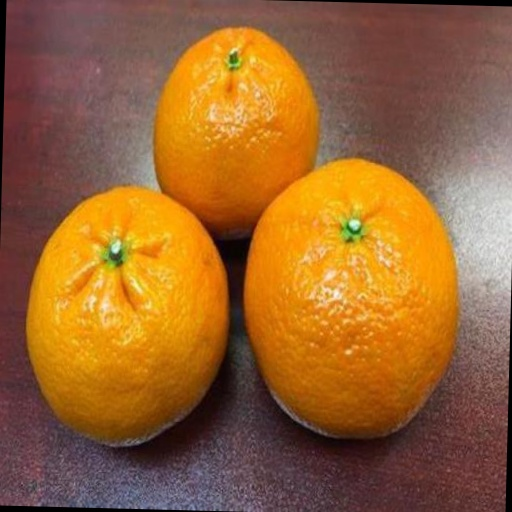fruit: (116, 147, 373, 485), (74, 83, 242, 282), (12, 186, 71, 507)
